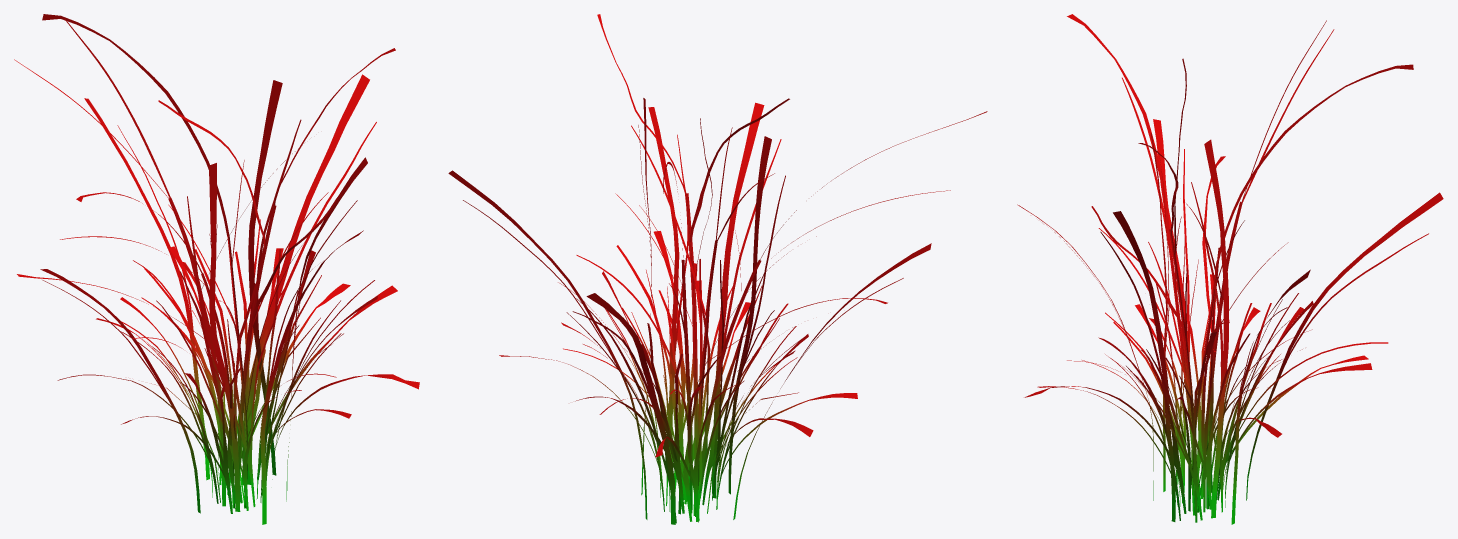
File: skFjJ_Var5_LOD0.fbx
3 views of the same model, side by side, from view 1: azimuth 30°, elevation 25°; view 2: azimuth 150°, elevation 25°; view 3: azimuth 270°, elevation 25° (orthographic). The views are drawn at different scales.
Parts seen in each view (by area): view 1: _1618_Var5_LOD0; view 2: _1618_Var5_LOD0; view 3: _1618_Var5_LOD0.
Part boxes in pixels (x1,y1,x2,y2): _1618_Var5_LOD0: (14,14,419,524); _1618_Var5_LOD0: (448,14,987,524); _1618_Var5_LOD0: (1017,14,1443,524).
Size of the model in its own units: 76.96 by 82.05 by 71.62.
